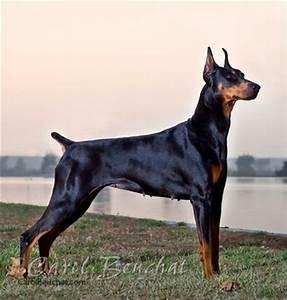dog: (6, 45, 261, 284)
